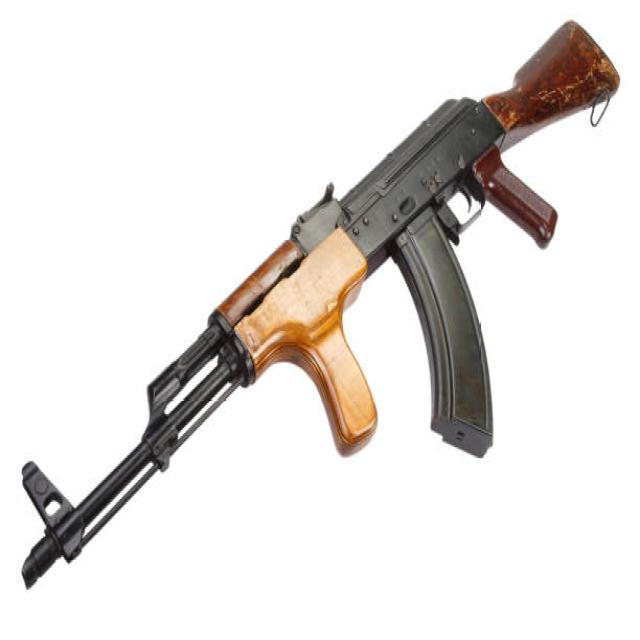rifle: (10, 16, 622, 599)
